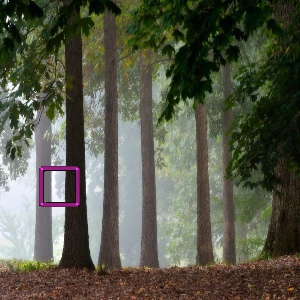square: (37, 165, 81, 209)
